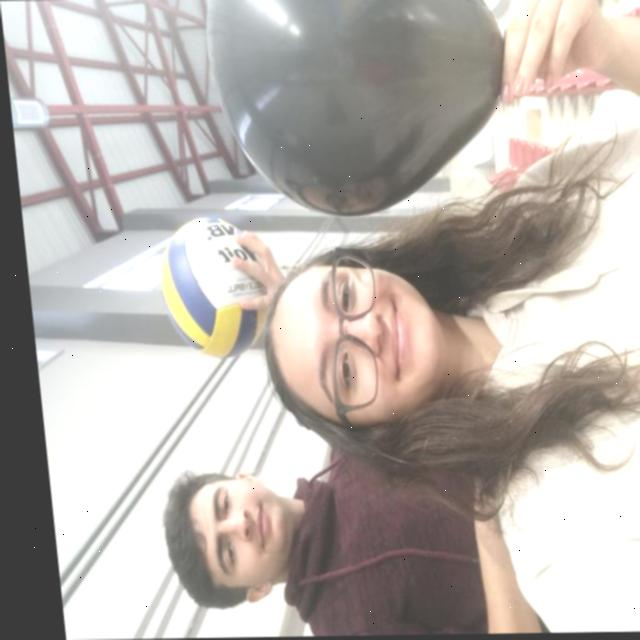balloon: (203, 0, 516, 219)
